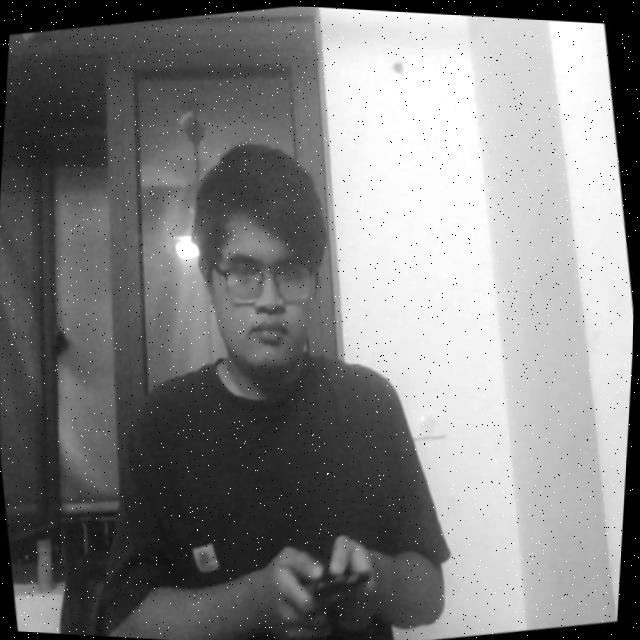phone: (282, 535, 389, 623)
